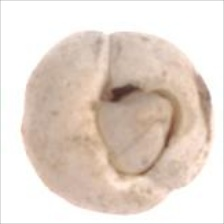L3: (87, 77, 181, 184)
L4: (21, 30, 214, 215)
